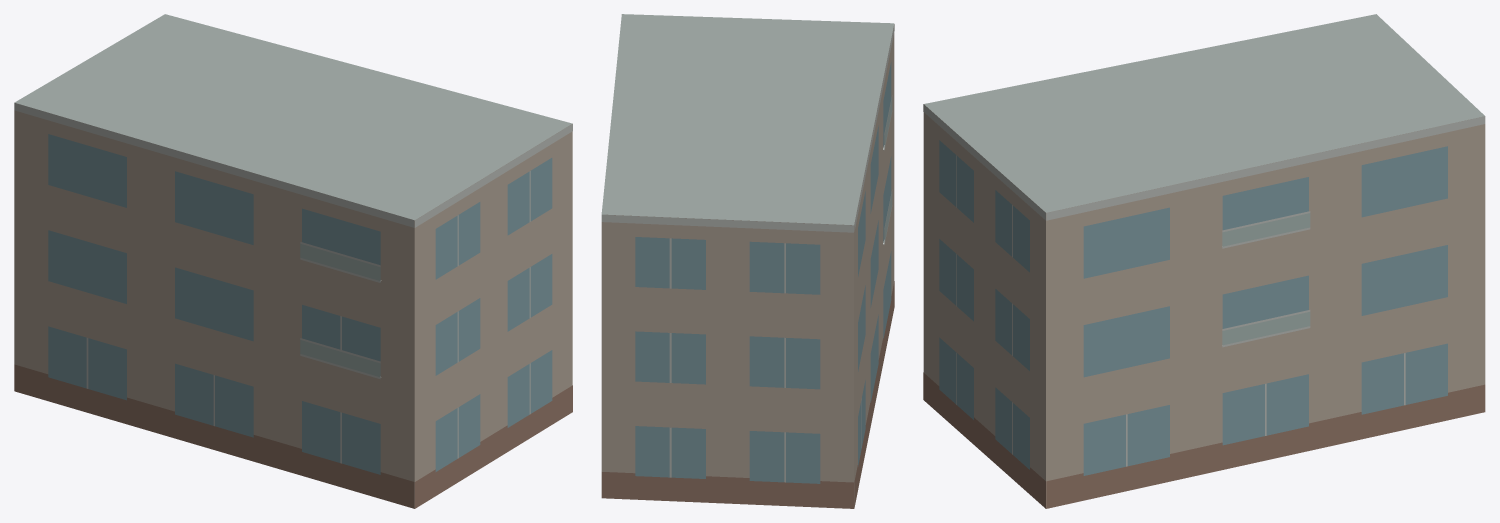
File: survey-upis-32778409.glb
3 views of the same model, side by side, from view 1: azimuth 30°, elevation 25°; view 2: azimuth 150°, elevation 25°; view 3: azimuth 270°, elevation 25° (orthographic). The views are drawn at different scales.
Visible parts, largest first — view 1: survey-upis-32778409.tmp; view 2: survey-upis-32778409.tmp; view 3: survey-upis-32778409.tmp.
Part boxes in pixels (box(x1,y1,x2,y2)): survey-upis-32778409.tmp: box(14, 14, 572, 508); survey-upis-32778409.tmp: box(601, 14, 894, 508); survey-upis-32778409.tmp: box(923, 14, 1485, 508).
Size of the model in its own units: 13.2 by 9.15 by 15.75.
